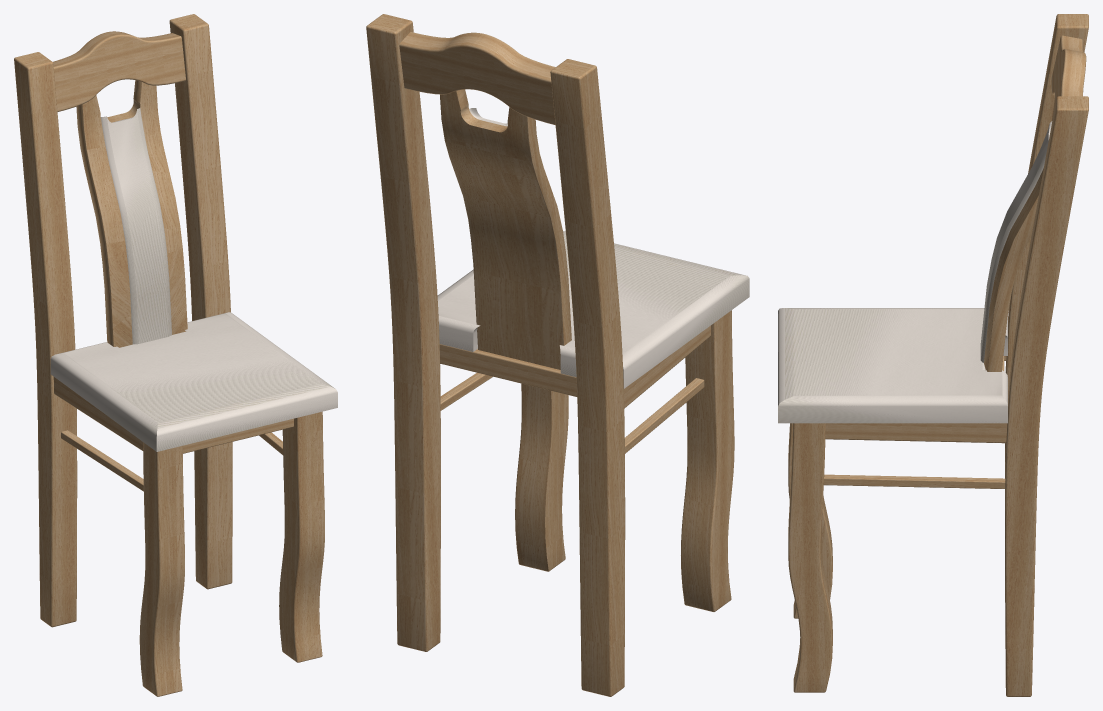
The model's file is krzeslo_dyrektorki.fbx.
The picture shows the model from 3 angles, left to right: view 1: azimuth 30°, elevation 25°; view 2: azimuth 150°, elevation 25°; view 3: azimuth 270°, elevation 25°; orthographic projection. The views are drawn at different scales.
Visible parts, largest first — view 1: Cube.001; view 2: Cube.001; view 3: Cube.001.
Boxes of the visible parts, x1,y1,x2,y2 form: Cube.001: (14,14,337,696); Cube.001: (366,14,749,696); Cube.001: (778,14,1088,696).
Size of the model in its own units: 700 by 2027 by 958.
Materials: 2 (2 with a texture image).
